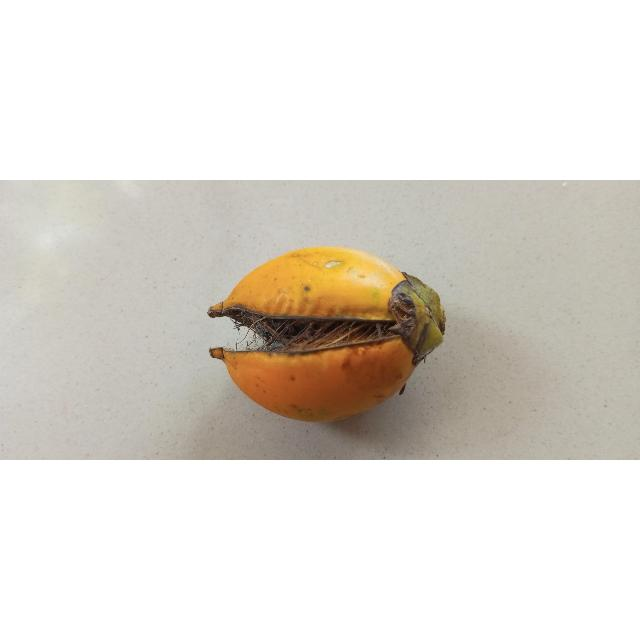damaged: (207, 247, 447, 424)
